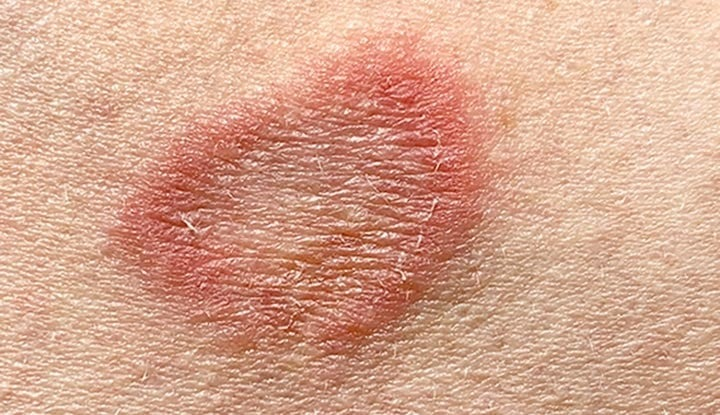Ringworm: (99, 36, 514, 367)
